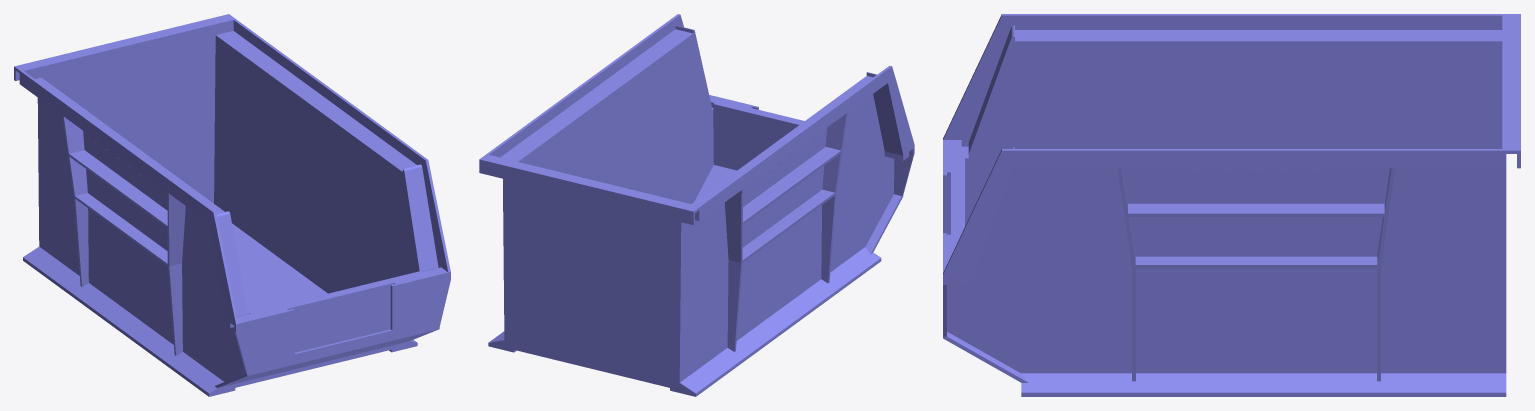
Rendered from Bin.fbx.
3 views of the same model, side by side, from view 1: azimuth 30°, elevation 25°; view 2: azimuth 150°, elevation 25°; view 3: azimuth 270°, elevation 25° (orthographic). The views are drawn at different scales.
Visible parts, largest first — view 1: bin; view 2: bin; view 3: bin.
Boxes of the visible parts, x1,y1,x2,y2 form: bin: [14, 14, 450, 396]; bin: [479, 14, 914, 396]; bin: [943, 14, 1520, 396].
Size of the model in its own units: 20.95 by 17.78 by 37.47.
